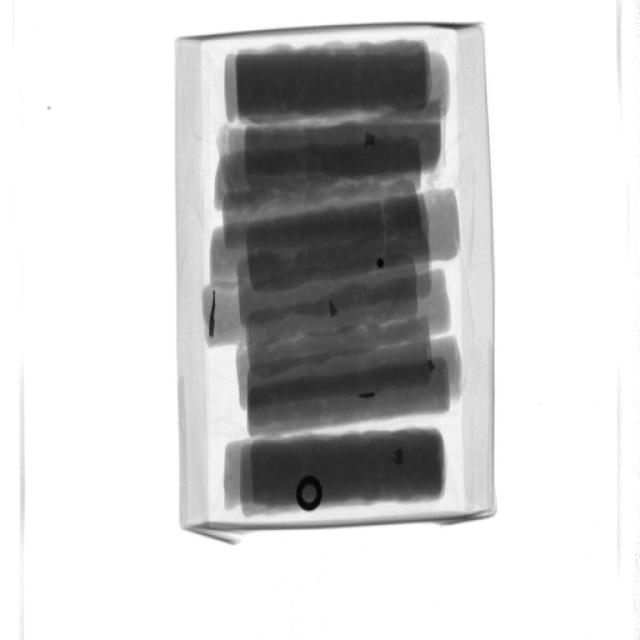ym: (298, 477, 324, 511), (209, 291, 217, 339), (393, 448, 405, 469), (364, 130, 376, 150), (329, 298, 339, 320), (360, 391, 377, 402), (428, 356, 436, 372), (378, 258, 386, 268)
